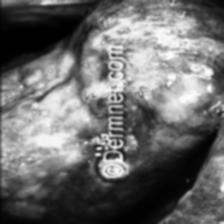Non-Cancerous Skin Condition: (125, 20, 224, 108), (77, 0, 123, 20)
